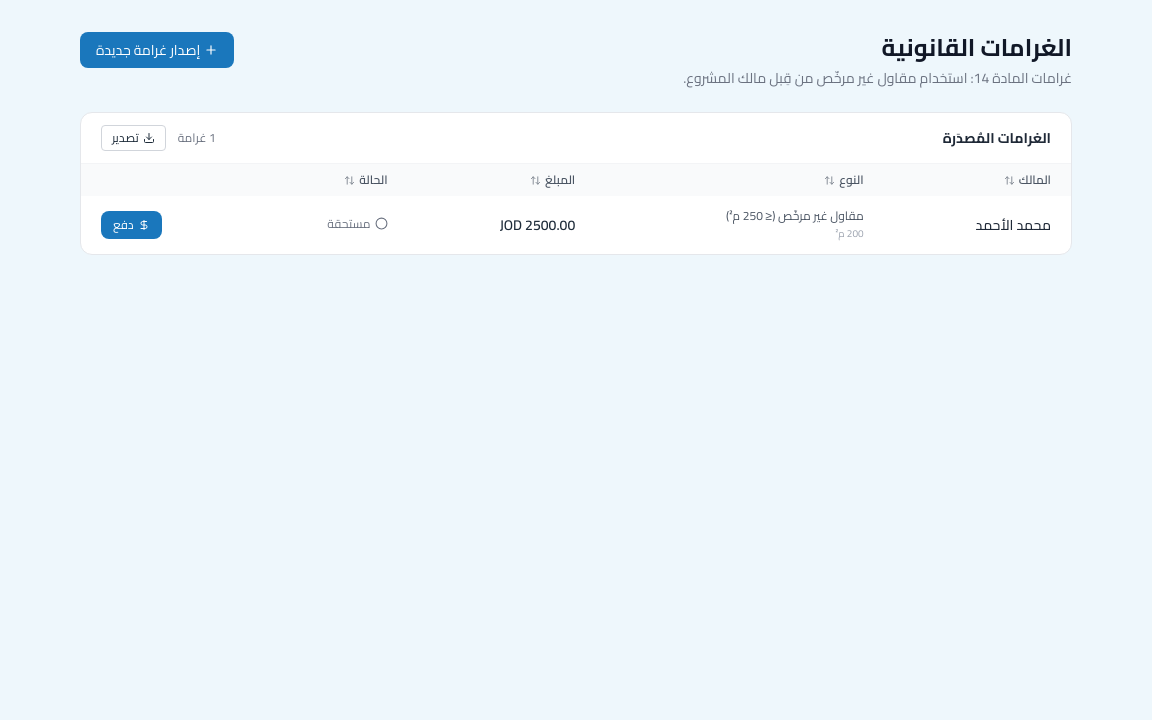
Test: LegalFinesAdmin (JORD-82 UI) › pay modal blocks empty reference
Click the button with test id "pay-fine-btn-1". click: {"x": 131, "y": 225}
box: 101,211 -> 162,239
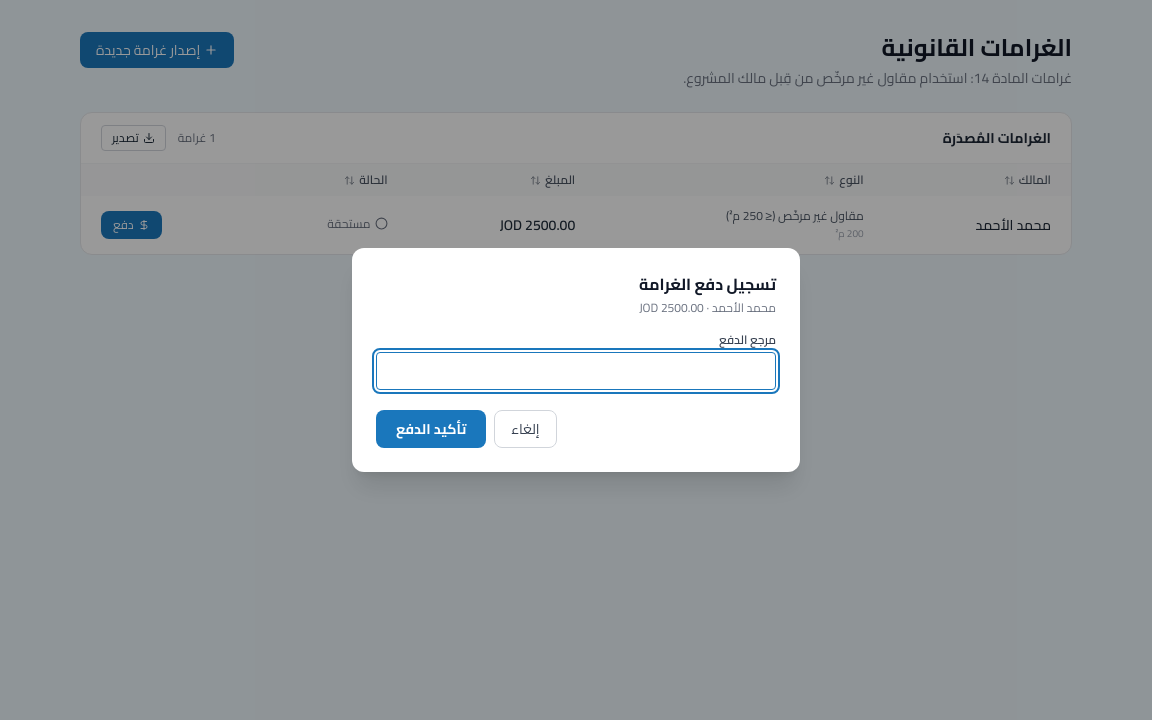
Click the button with test id "pay-fine-submit". click: {"x": 431, "y": 429}
box: 376,410 -> 486,448
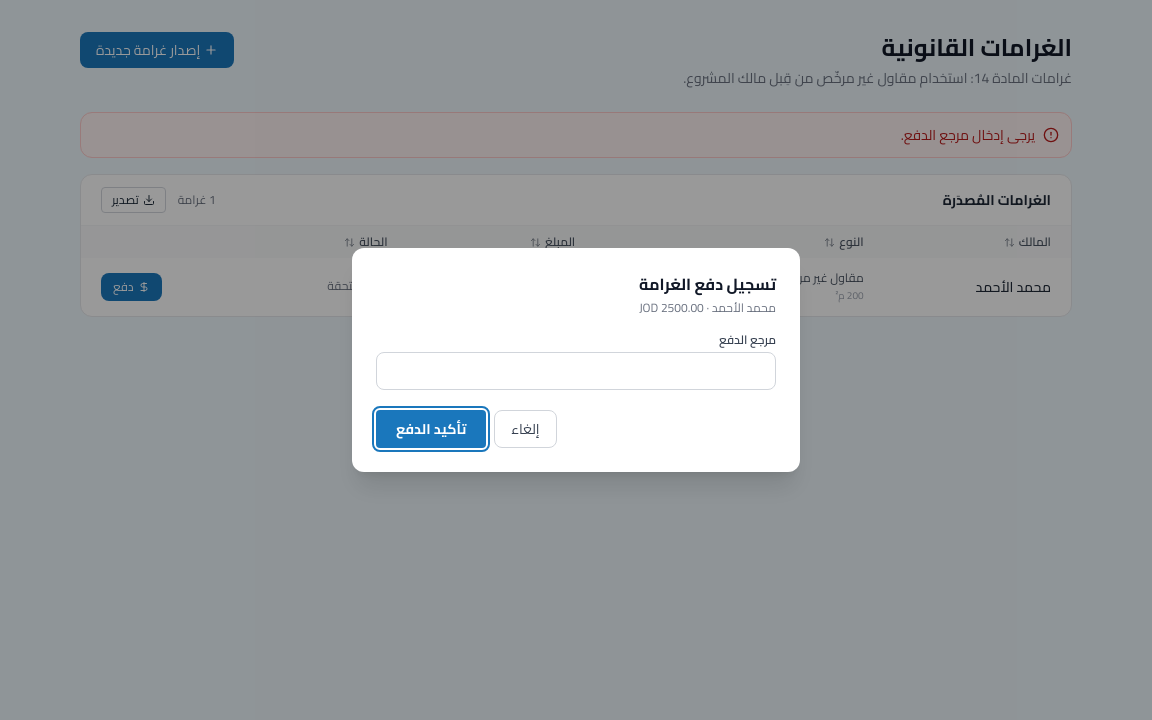
Check: the text "يرجى إدخال مرجع الدفع." is shown, box 901,125 -> 1035,145
